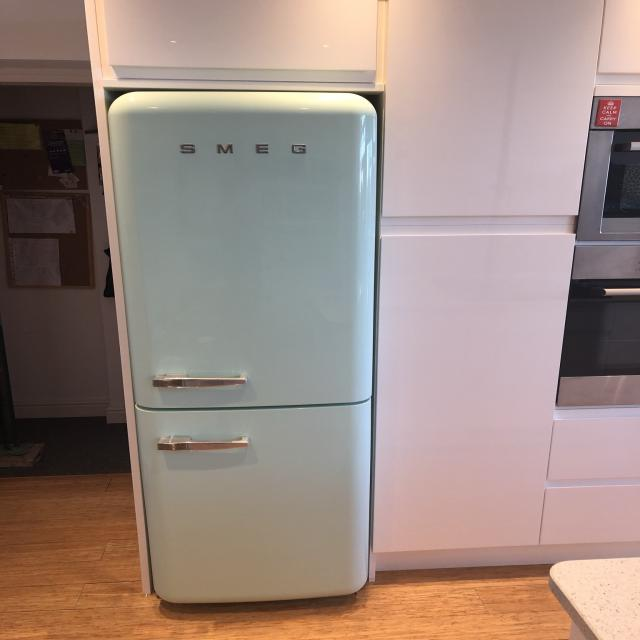refrigerator: (110, 74, 384, 622)
